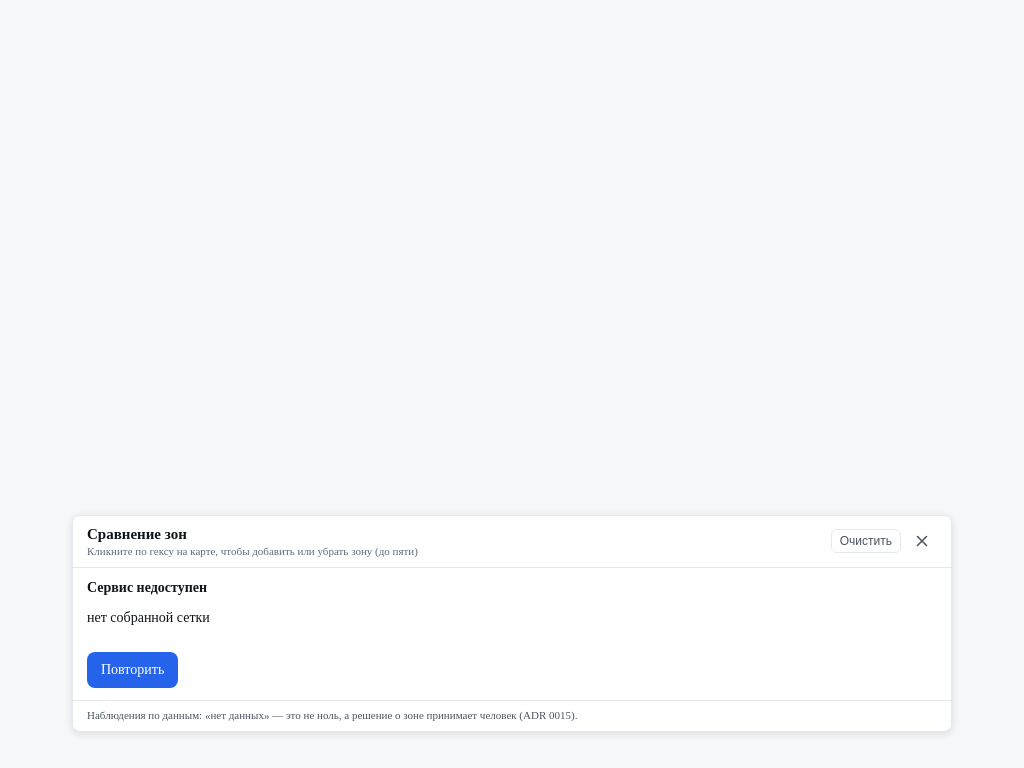
Scenario: ComparePanel › показывает ошибку и умеет повторить
This screenshot has width=1024, height=768.
Expected: the element with test id "compare-error" shows "Сервис недоступен", [87, 580, 207, 595]
What coordinates should you click on to do the following:
click the button "Повторить"
I would click on:
 (133, 670)
Its box is [87, 652, 178, 688].
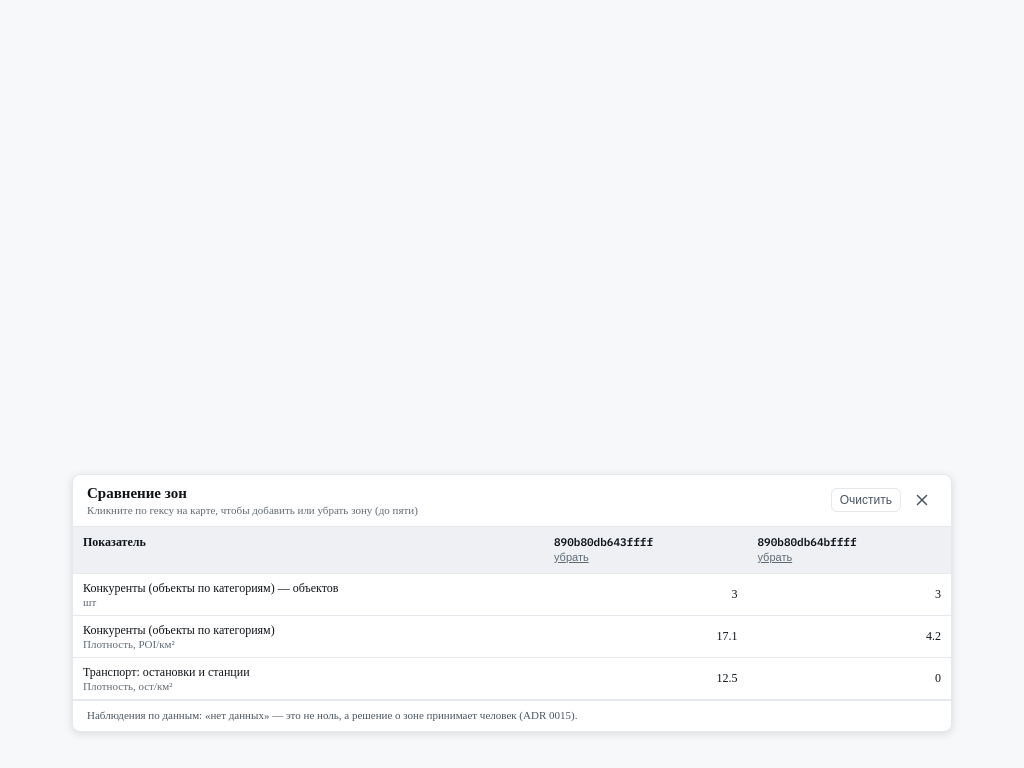
Now the table with test id "compare-table" is shown, box [73, 527, 951, 700]
